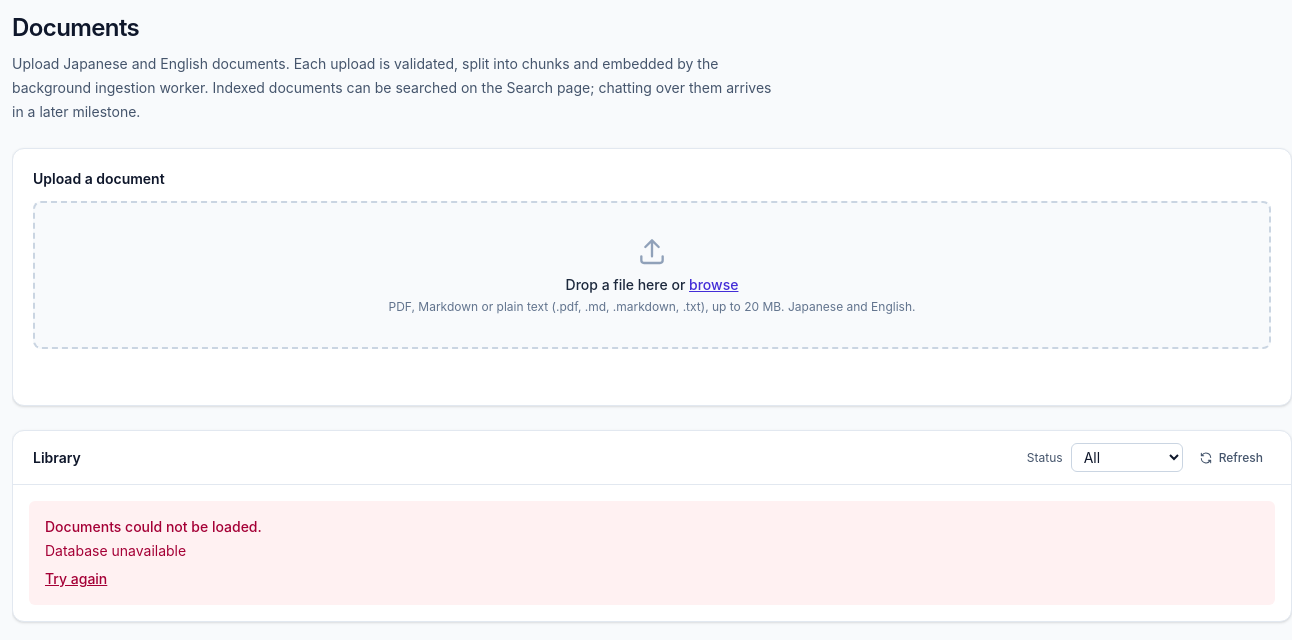
Scenario: DocumentsPage › shows an error state with a retry button
Expected: the message shows "Documents could not be loaded.", [45, 518, 262, 535]
Expected: the message shows "Database unavailable", [45, 542, 186, 559]
Click the button "Try again".
click(76, 579)  # box [45, 569, 107, 589]
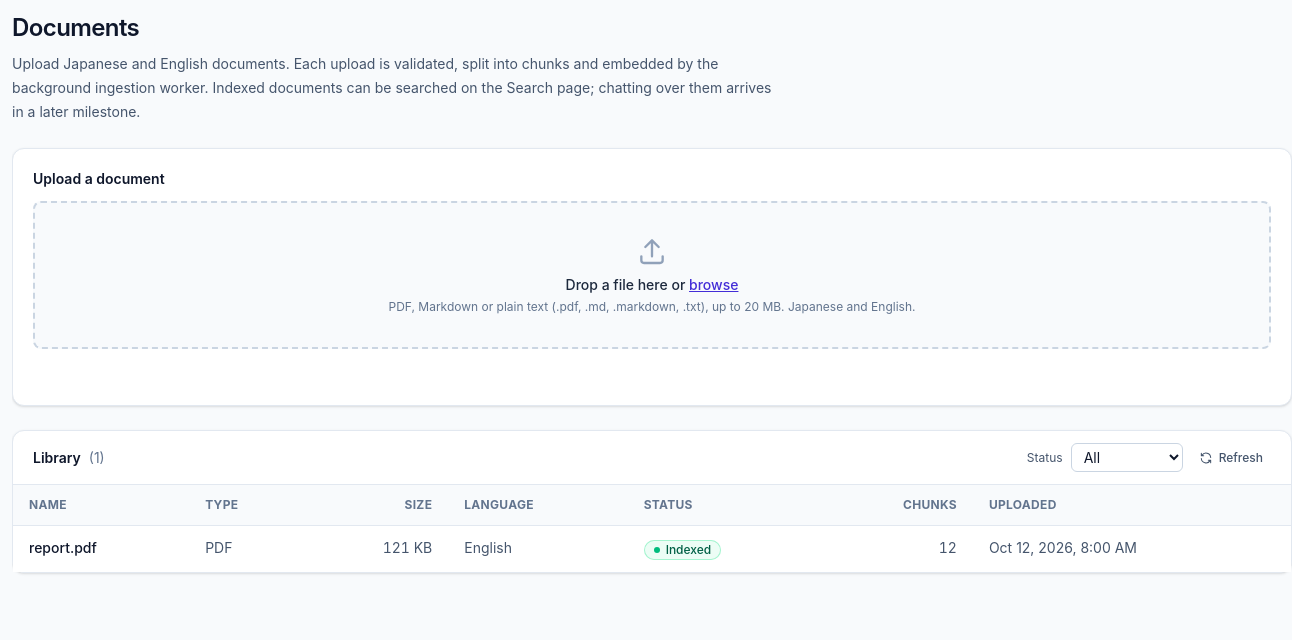
Expected: the number of links "report.pdf" is 2
